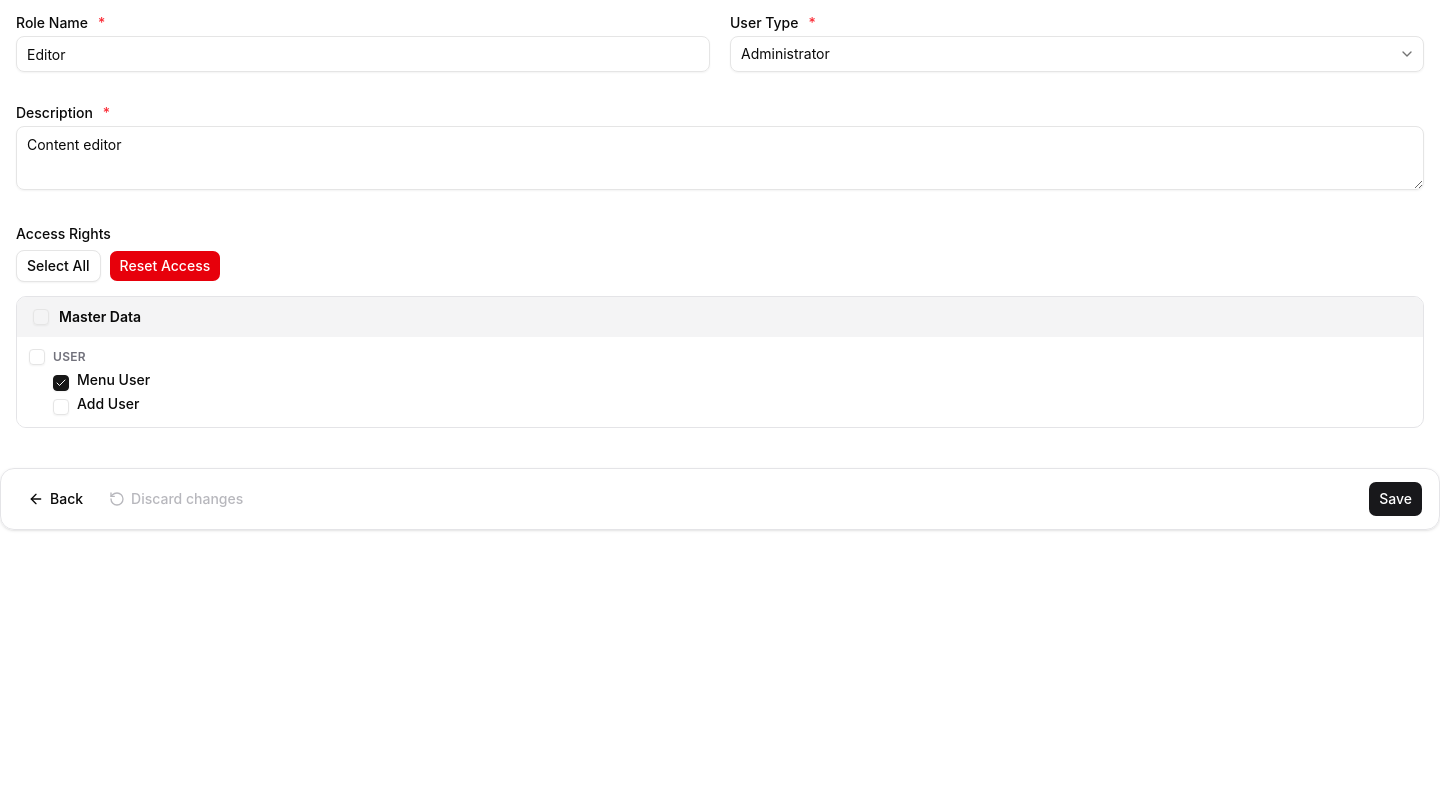
Test: RoleForm — action bar › edit › counts Select All as a change and discards back to the loaded access
The image size is (1440, 810).
Expected: the checkbox named "Add User" next to "Add User" is shown, [53, 399, 69, 415]
Click the button "Select All": (58, 266) [16, 250, 101, 282]
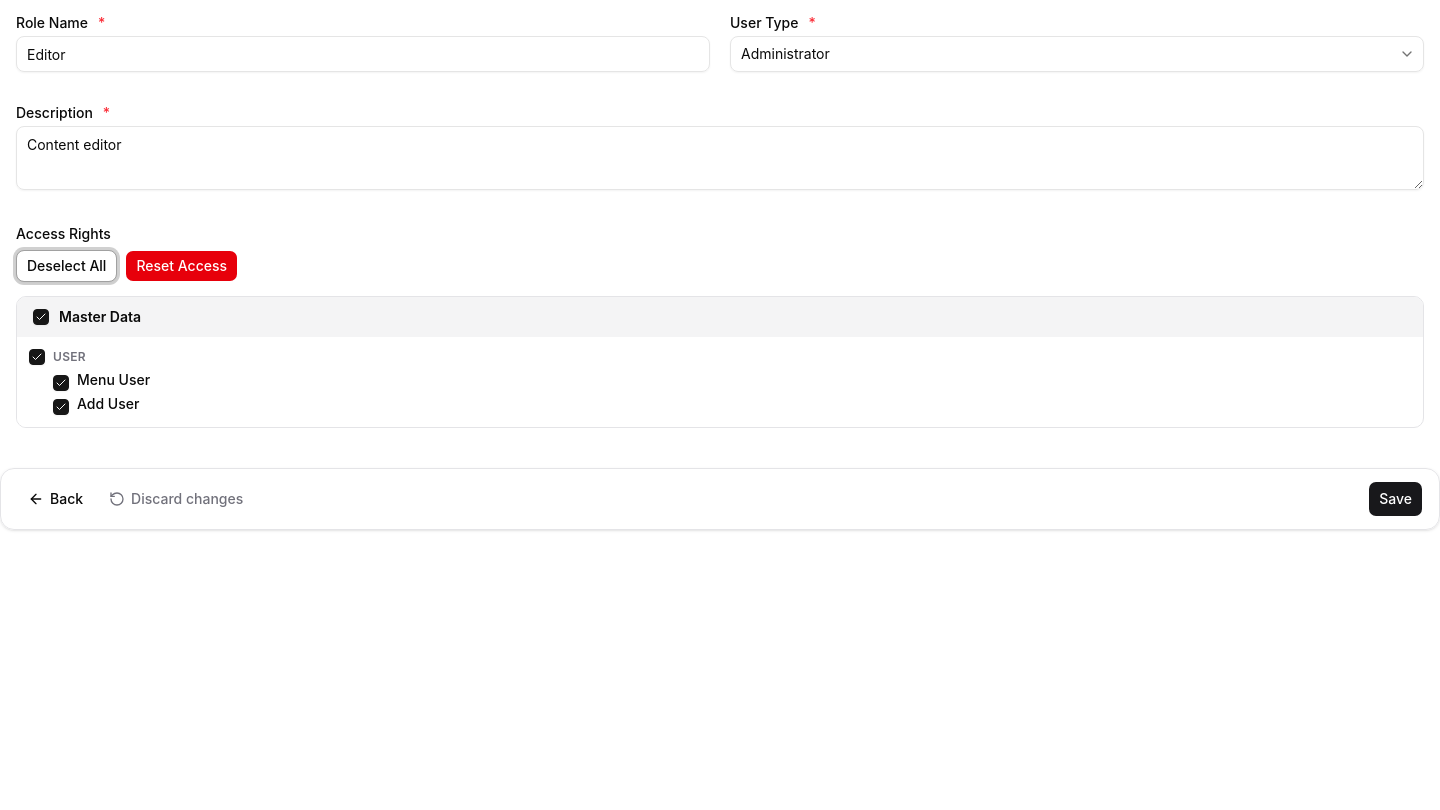
Result: the checkbox named "Add User" next to "Add User" is checked at [53, 399, 69, 415]
Result: the button "Deselect All" is shown at [16, 250, 117, 282]
Result: the button "Discard changes" is enabled
Click the button "Discard changes": (176, 499) [98, 481, 254, 517]
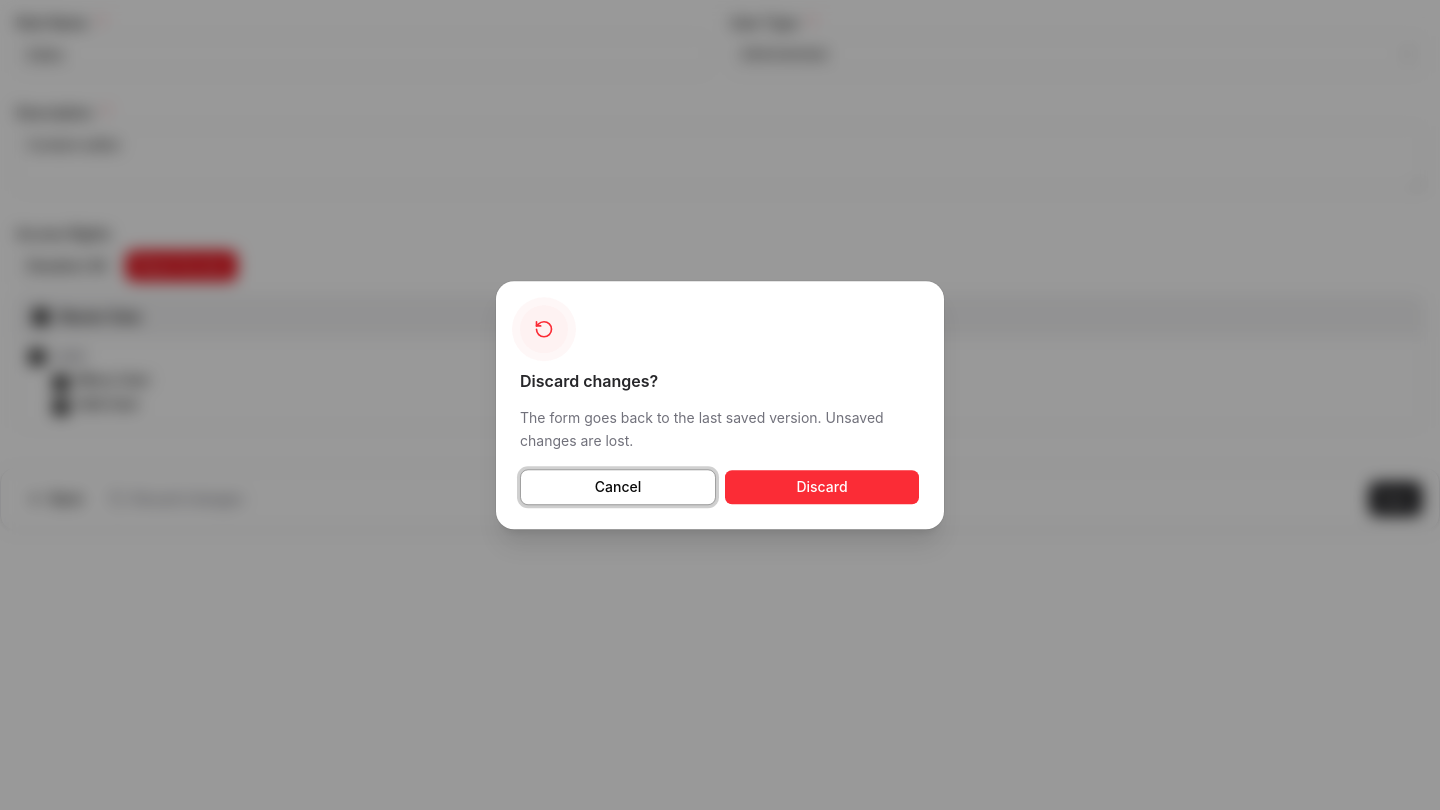
Click the button "Discard": (822, 487) [724, 469, 920, 505]
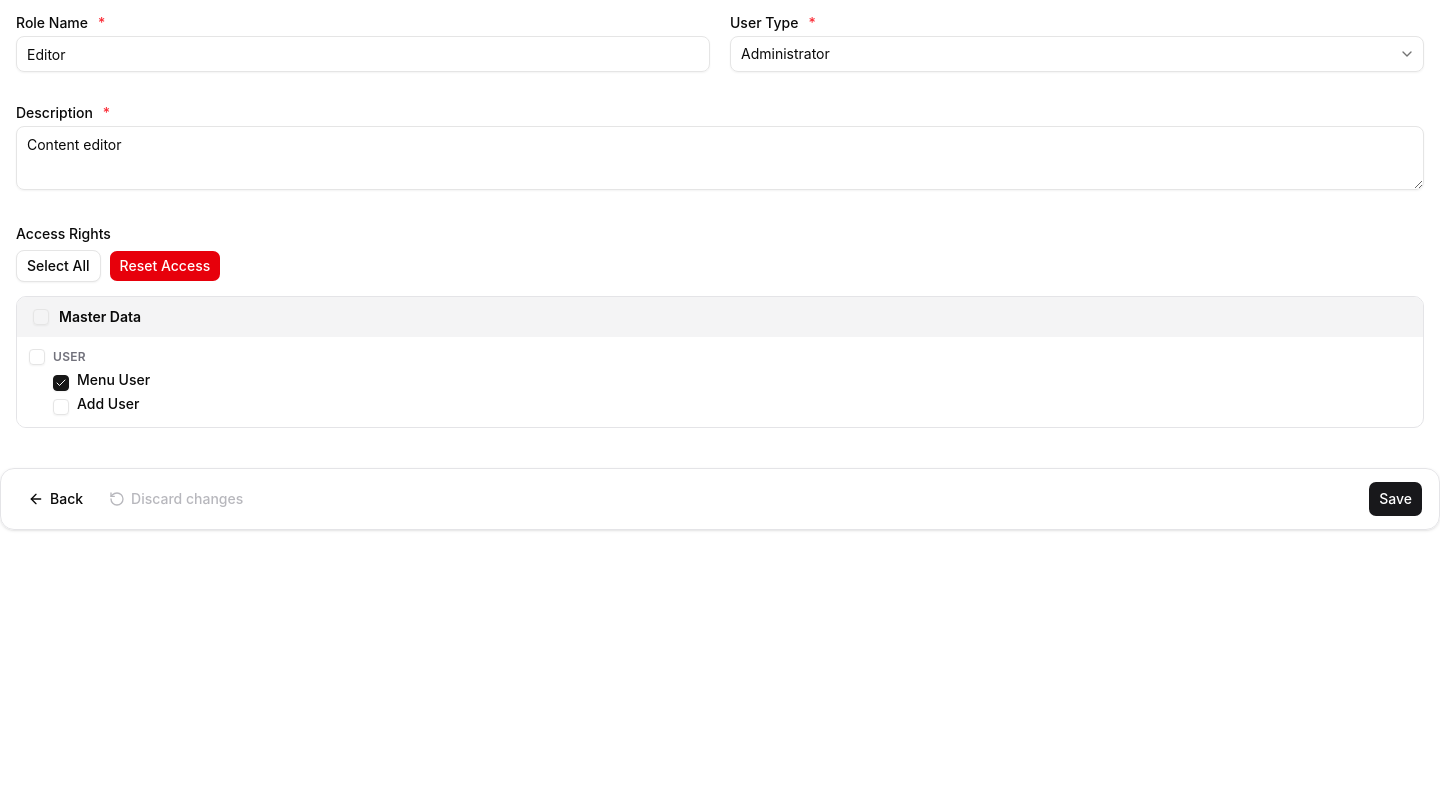
Result: the dialog is gone
Result: the checkbox named "Add User" next to "Add User" is not checked at [53, 399, 69, 415]
Result: the button "Discard changes" is disabled at [98, 481, 254, 517]
